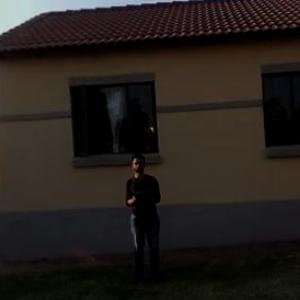follow: (122, 147, 168, 290)
